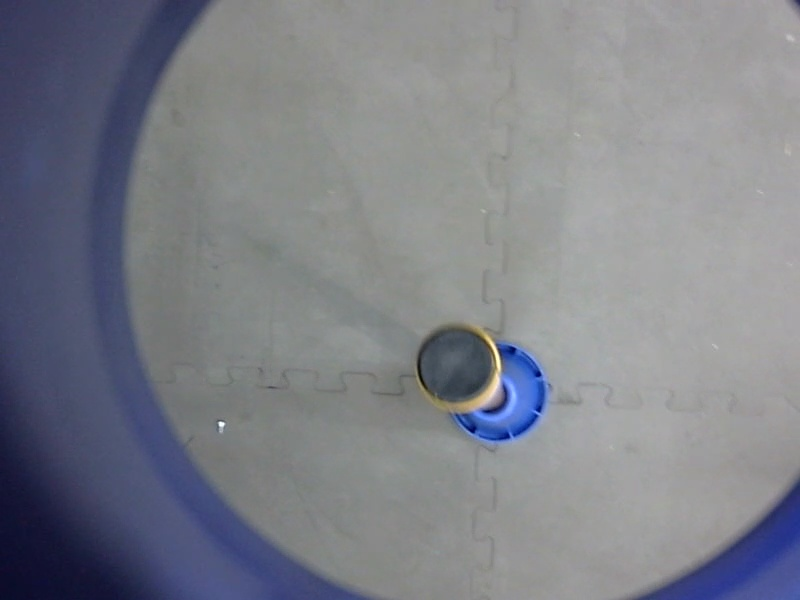tip: (406, 317, 508, 419)
